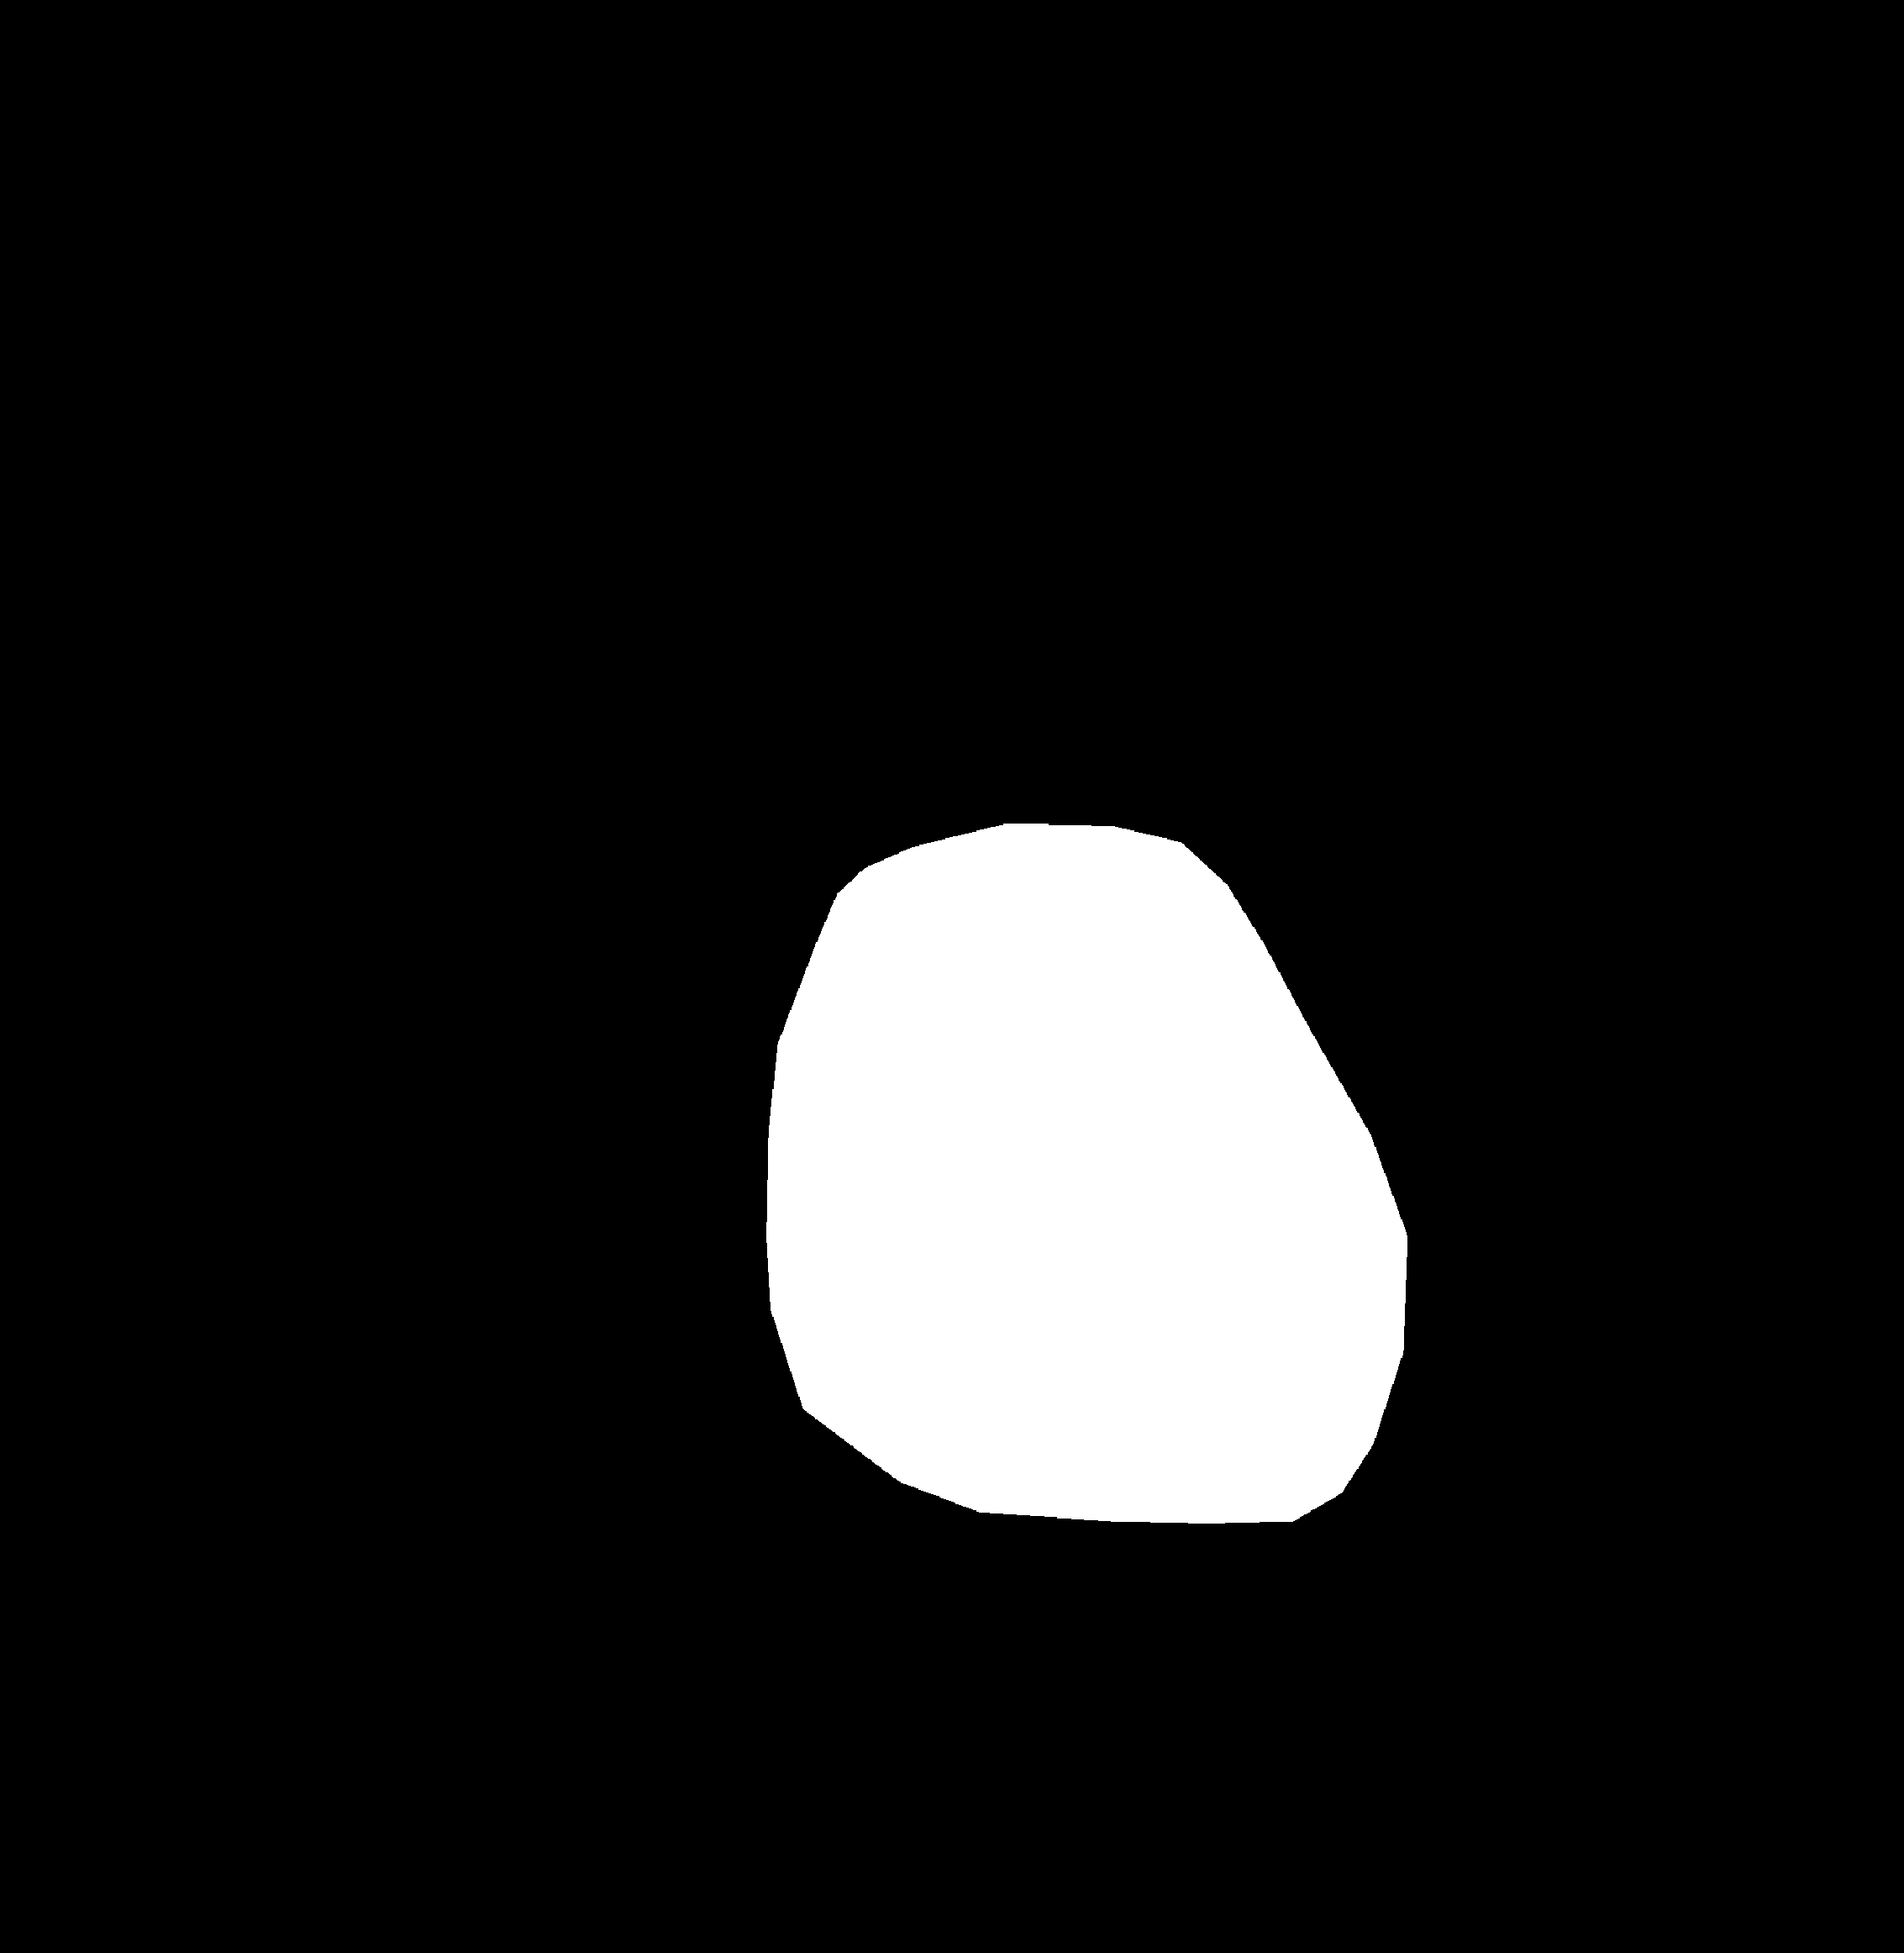heart: (772, 879, 1400, 1524)
left_lung: (223, 164, 853, 1709)
right_lung: (996, 134, 1712, 1805)
